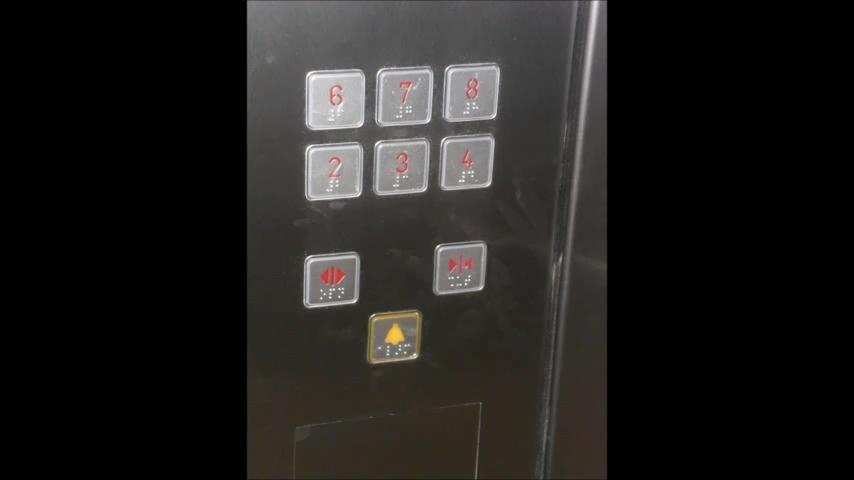2: (299, 137, 367, 205)
3: (368, 133, 436, 201)
4: (433, 128, 501, 196)
6: (301, 66, 369, 134)
7: (371, 62, 439, 130)
8: (437, 58, 505, 126)
alarm: (362, 304, 428, 369)
close: (426, 235, 492, 300)
open: (297, 247, 363, 312)
